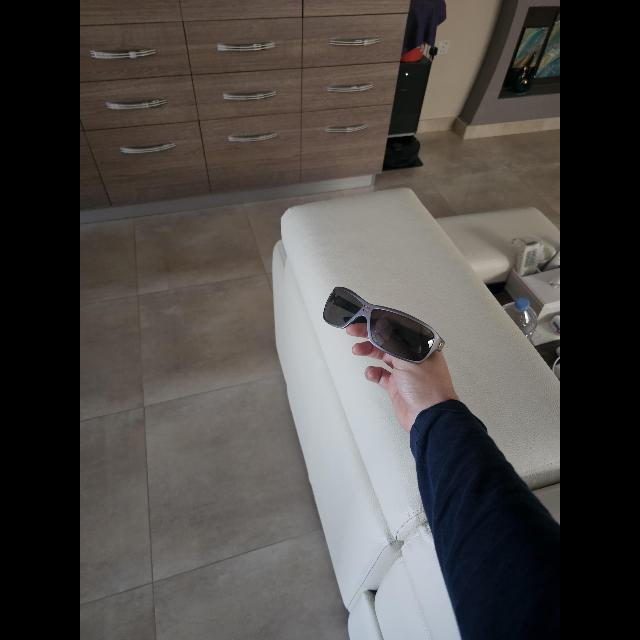Sunglasses: (324, 287, 444, 363)
